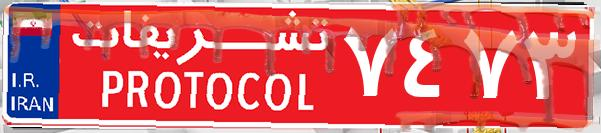3: (520, 20, 580, 115)
4: (400, 20, 460, 115)
7: (340, 20, 400, 115), (460, 20, 520, 115)
تشریفات: (60, 8, 340, 125)
